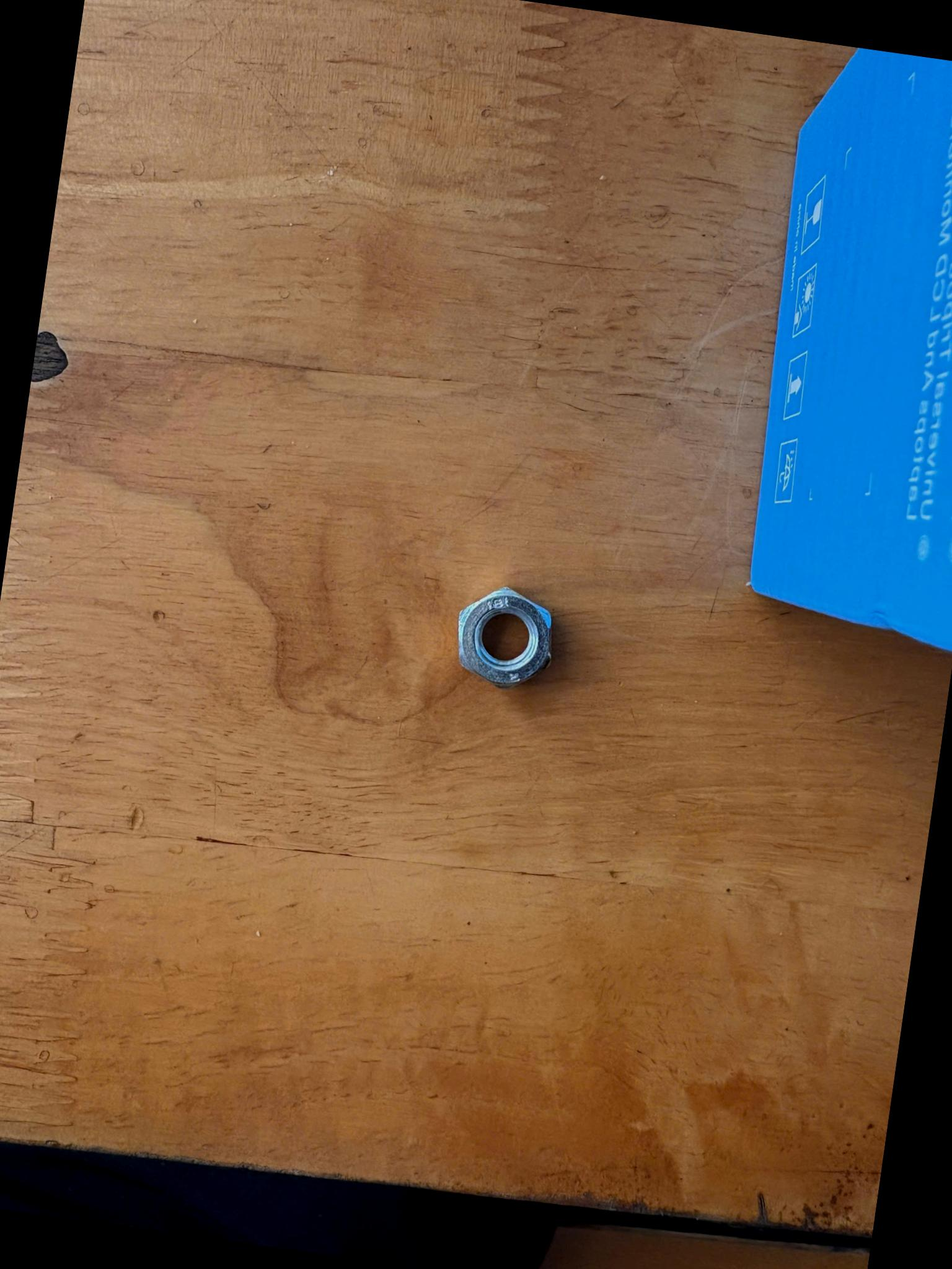nut: (433, 559, 584, 717)
